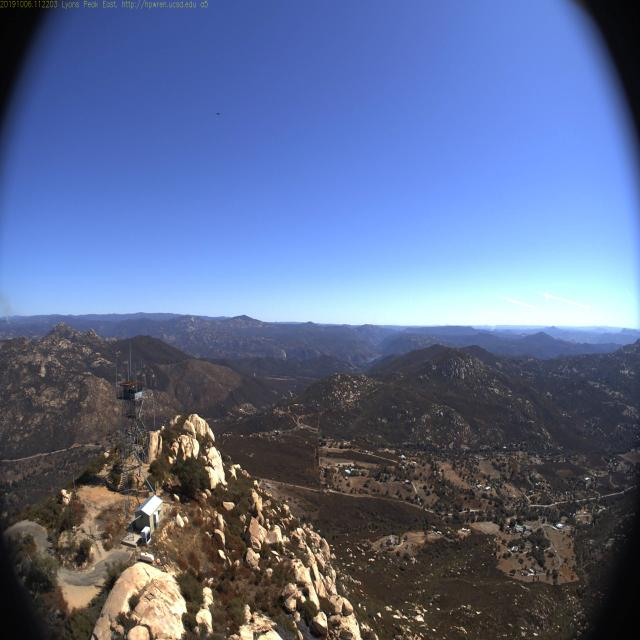smoke: (0, 283, 18, 324), (484, 317, 502, 333)
